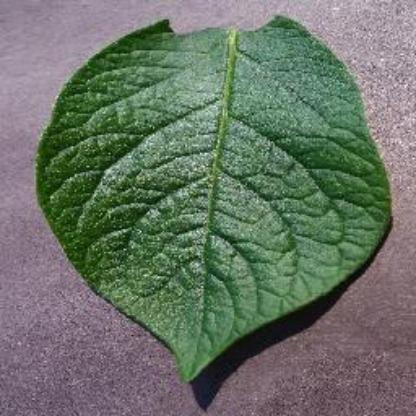Healthy-plant: (34, 11, 392, 396)
